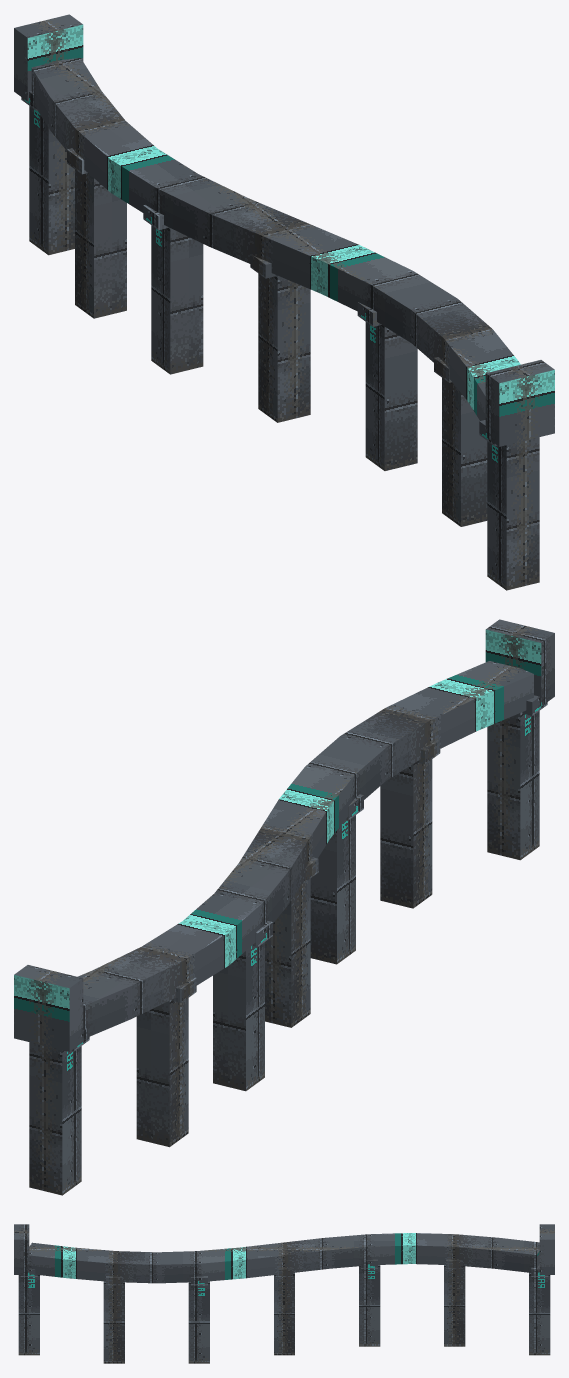
Rendered from rail_arc_weave.glb.
3 renders of one model, top to bottom at view 1: azimuth 30°, elevation 25°; view 2: azimuth 150°, elevation 25°; view 3: azimuth 270°, elevation 25°, orthographic. The views are drawn at different scales.
Parts seen in each view (by area): view 1: rail_arc_weave; view 2: rail_arc_weave; view 3: rail_arc_weave.
Part boxes in pixels (x1,y1,x2,y2): rail_arc_weave: [14, 14, 554, 590]; rail_arc_weave: [14, 619, 554, 1195]; rail_arc_weave: [14, 1224, 554, 1363].
Bounding box in the file's own units: 0.8913 × 1.54 × 6.36.
Materials: 2 (1 with a texture image).
